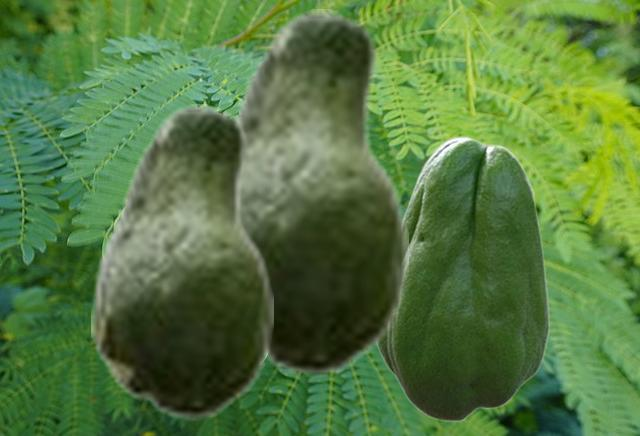sayote: (224, 9, 407, 377), (91, 104, 272, 420), (376, 136, 549, 421)
